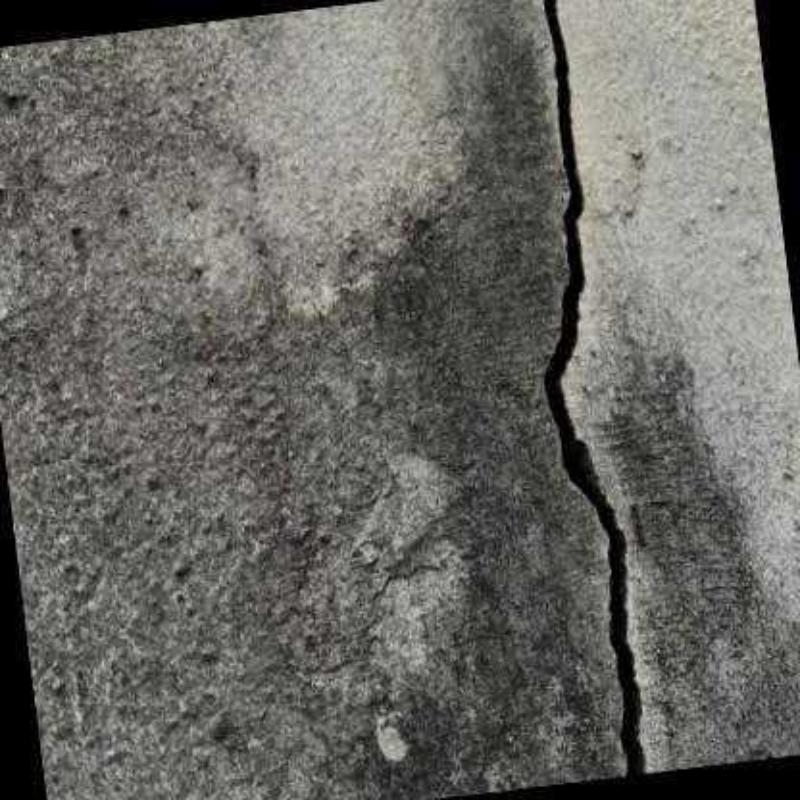crack: (541, 0, 650, 774)
